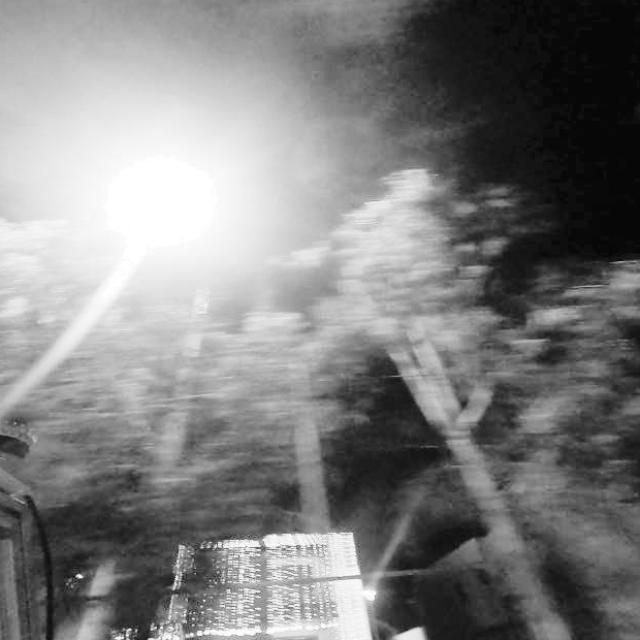Light: (92, 155, 210, 248)
